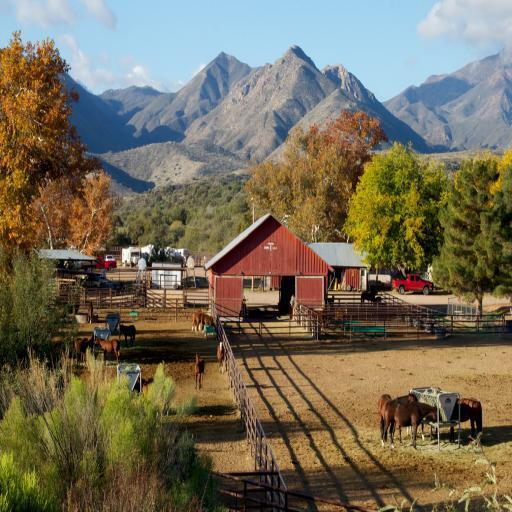horse: (383, 400, 441, 450), (448, 398, 482, 446), (392, 390, 417, 444), (377, 391, 393, 447), (118, 322, 136, 346), (194, 350, 204, 390), (201, 315, 218, 337), (190, 311, 206, 333), (195, 312, 209, 335), (216, 338, 226, 370), (113, 338, 120, 366)
